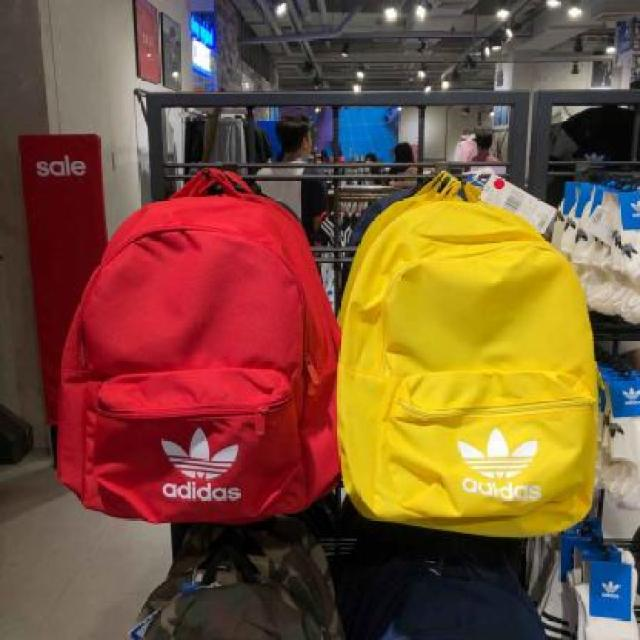Bag: (29, 108, 378, 584), (310, 116, 605, 558)
